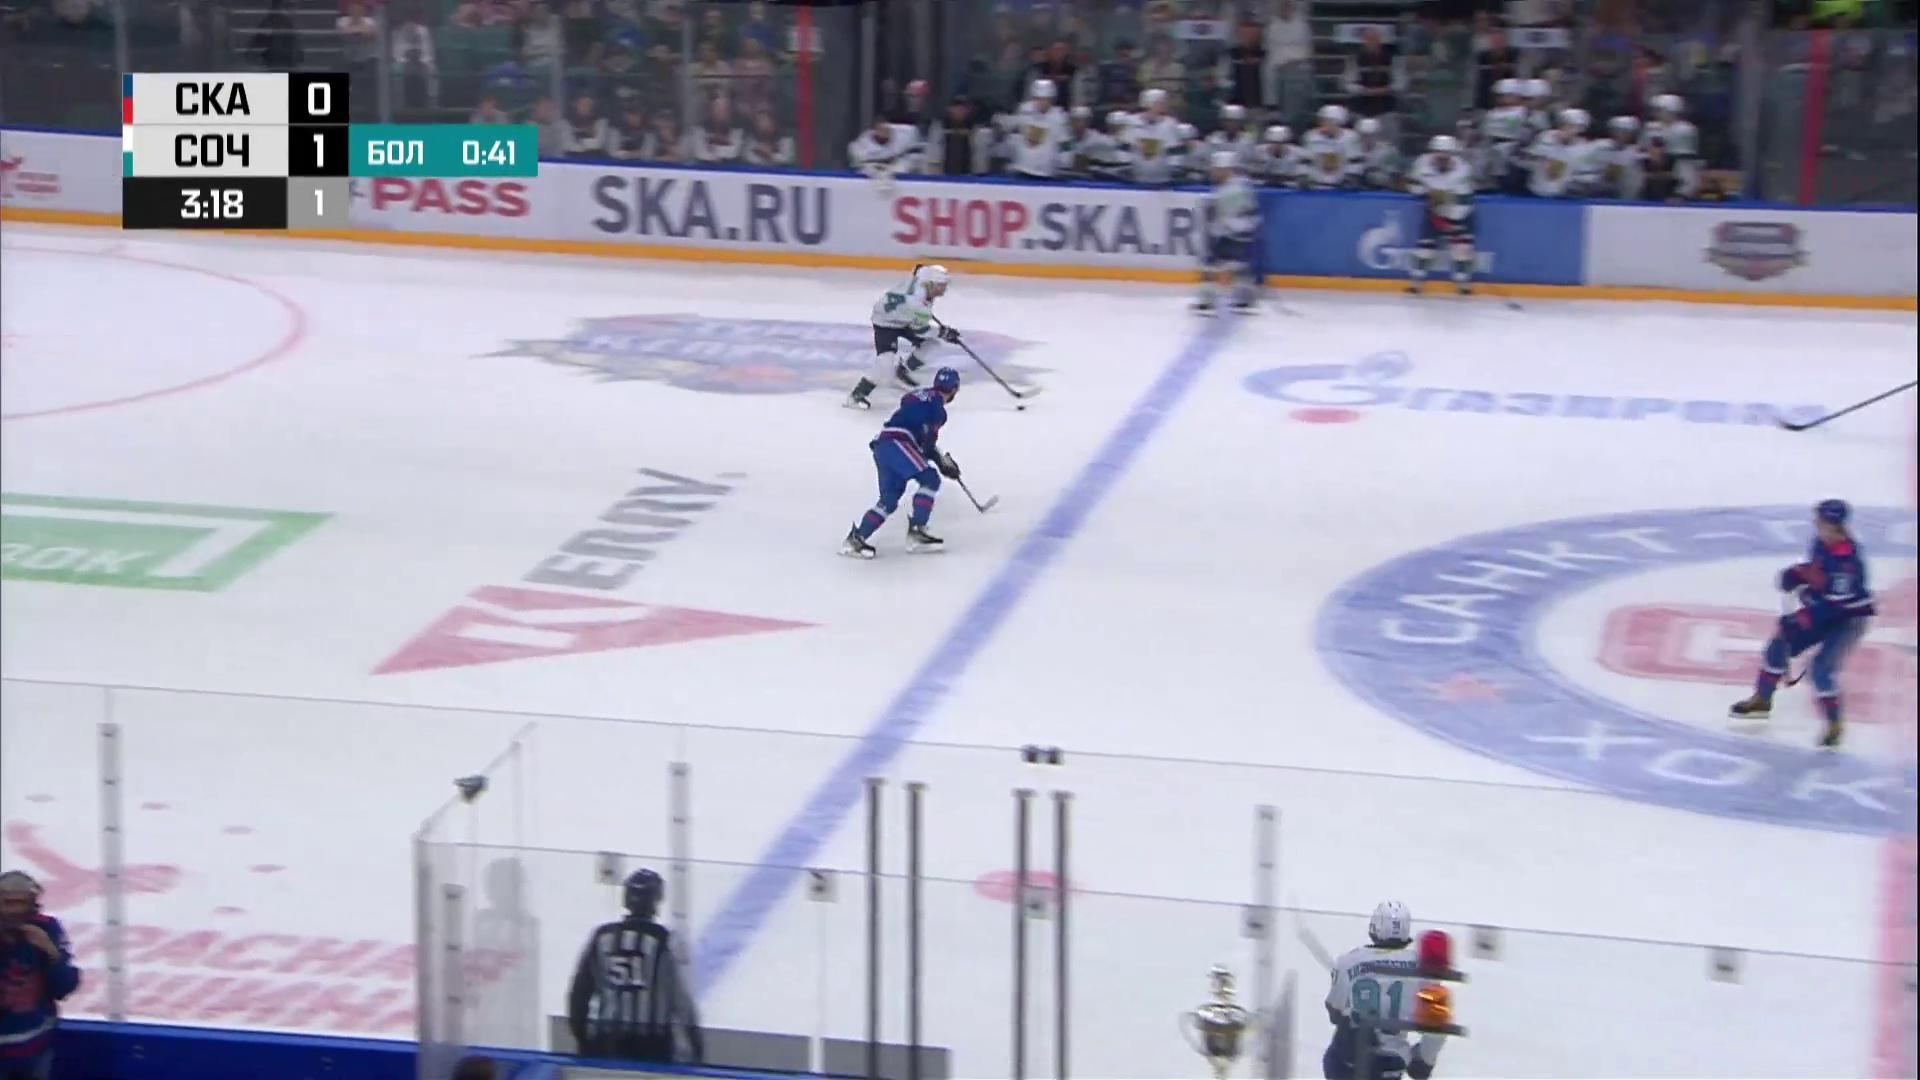ball: (1015, 405, 1026, 411)
